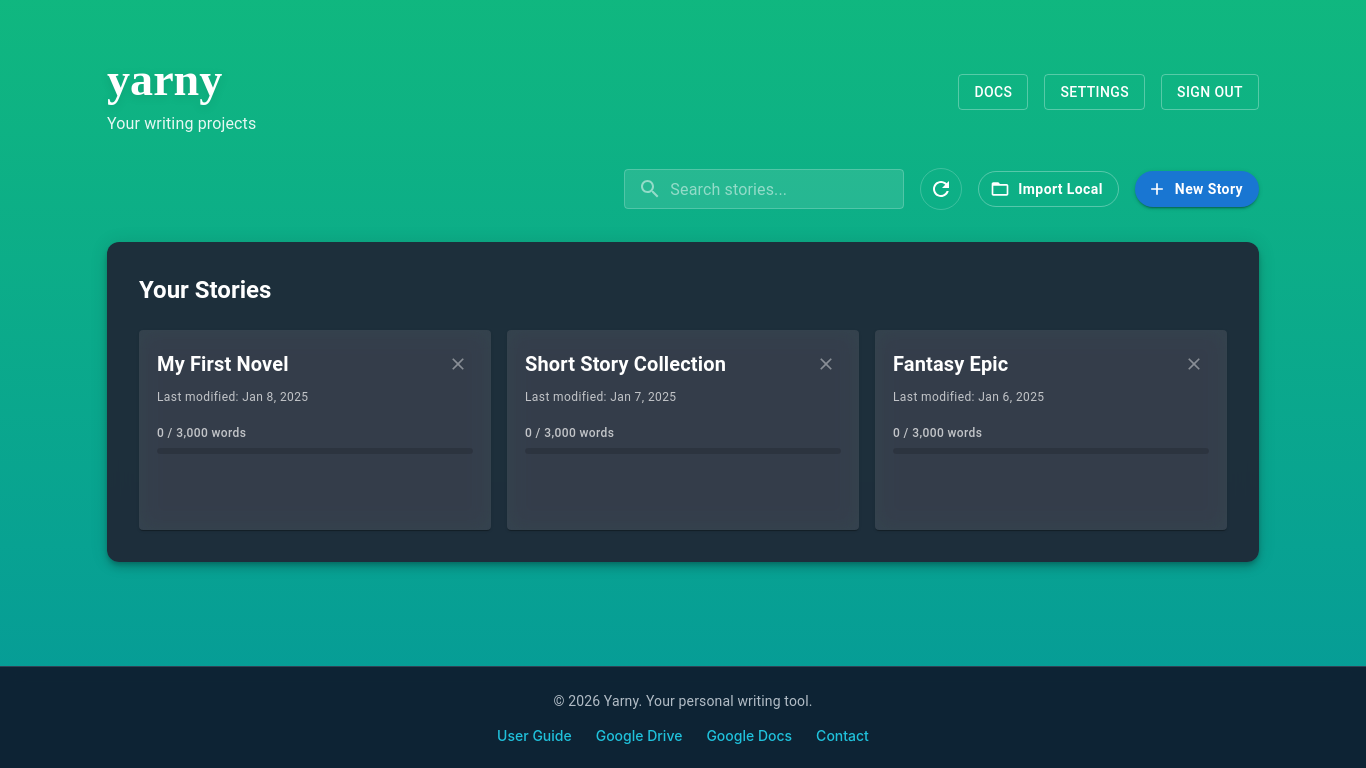
Test: StoriesPage › Modal Behavior › opens delete modal when delete button is clicked on a story card
Click the button without text next to "My First Novel" at [458, 364], box [443,348,473,380]
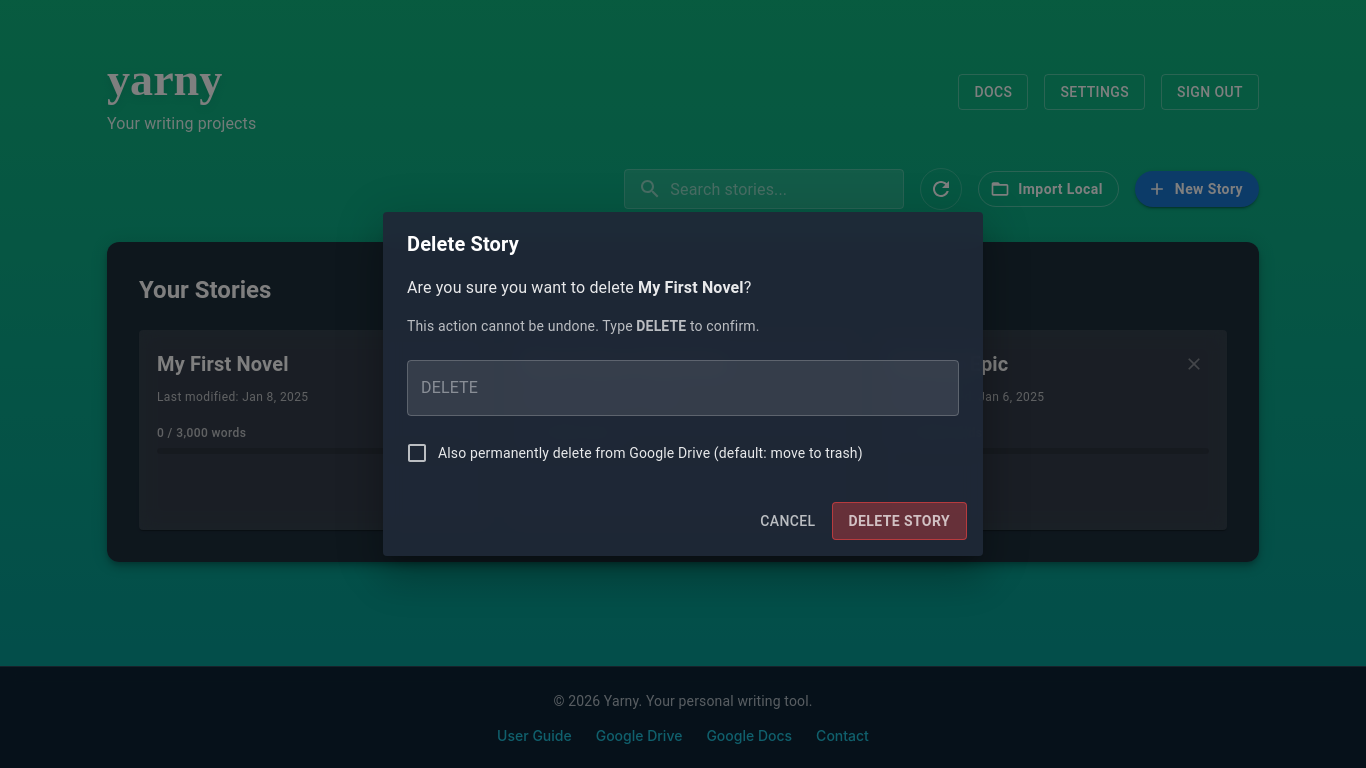
Expected: the heading "Delete Story" is shown, [407,232,519,256]
